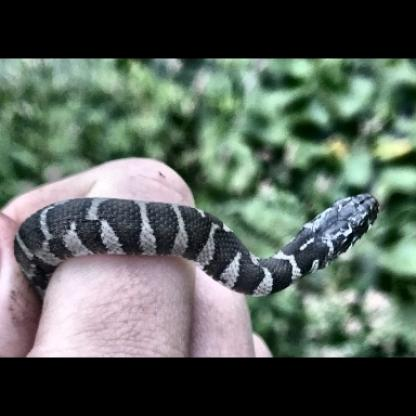Snake: (6, 151, 396, 309)
